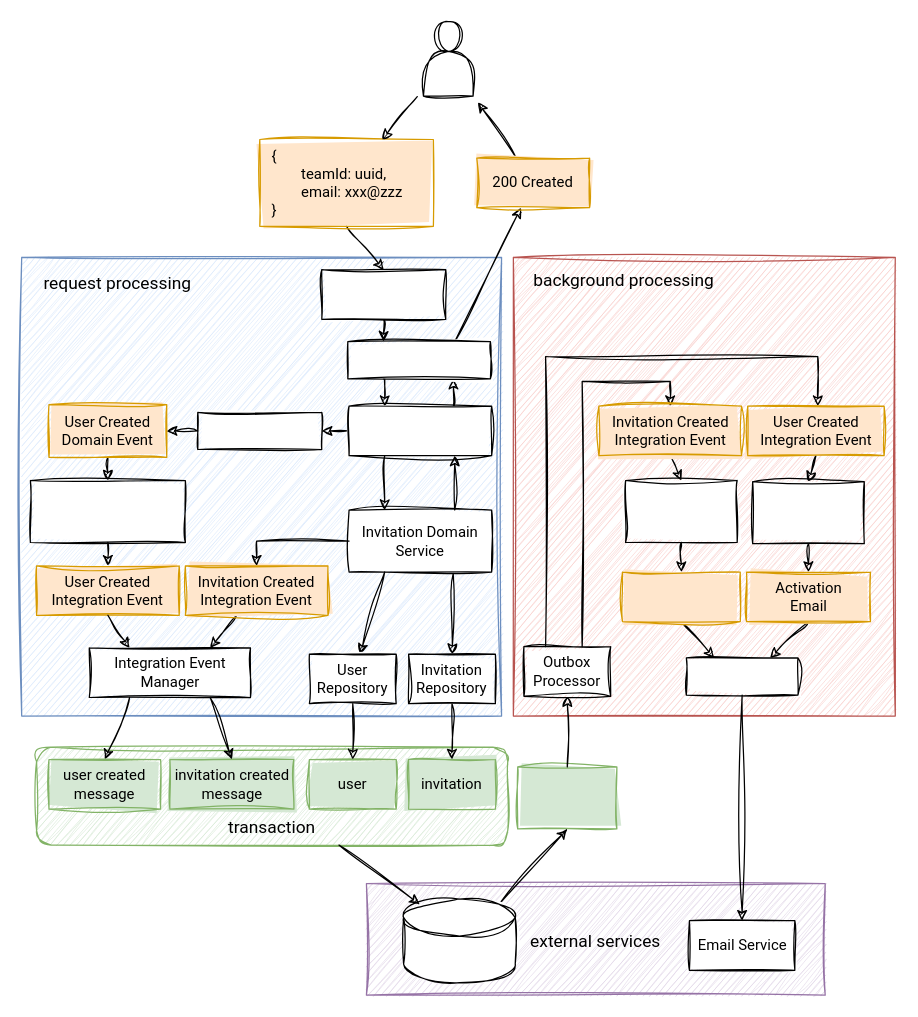
Image size: 918x1017. Some labels were removed from this diagram. The centre of each missing label's shape, as x and y in pixels:
"Email Sender" belongs at (x=741, y=676).
"Invitation Created Event Handler" belongs at (x=680, y=510).
"Invitation Email" belongs at (x=680, y=596).
"Invite User Command Handler" belongs at (x=420, y=430).
"Invite User Endpoint" belongs at (x=418, y=359).
"Invite User Validator" belongs at (x=383, y=293).
"N outbox messages" belongs at (x=566, y=797).
"RDBMS" belongs at (x=458, y=940).
"Unit of Work" belongs at (x=259, y=430).
"User Created Domain Event Handler" belongs at (x=107, y=510).
"User Created Event Handler" belongs at (x=807, y=512).
